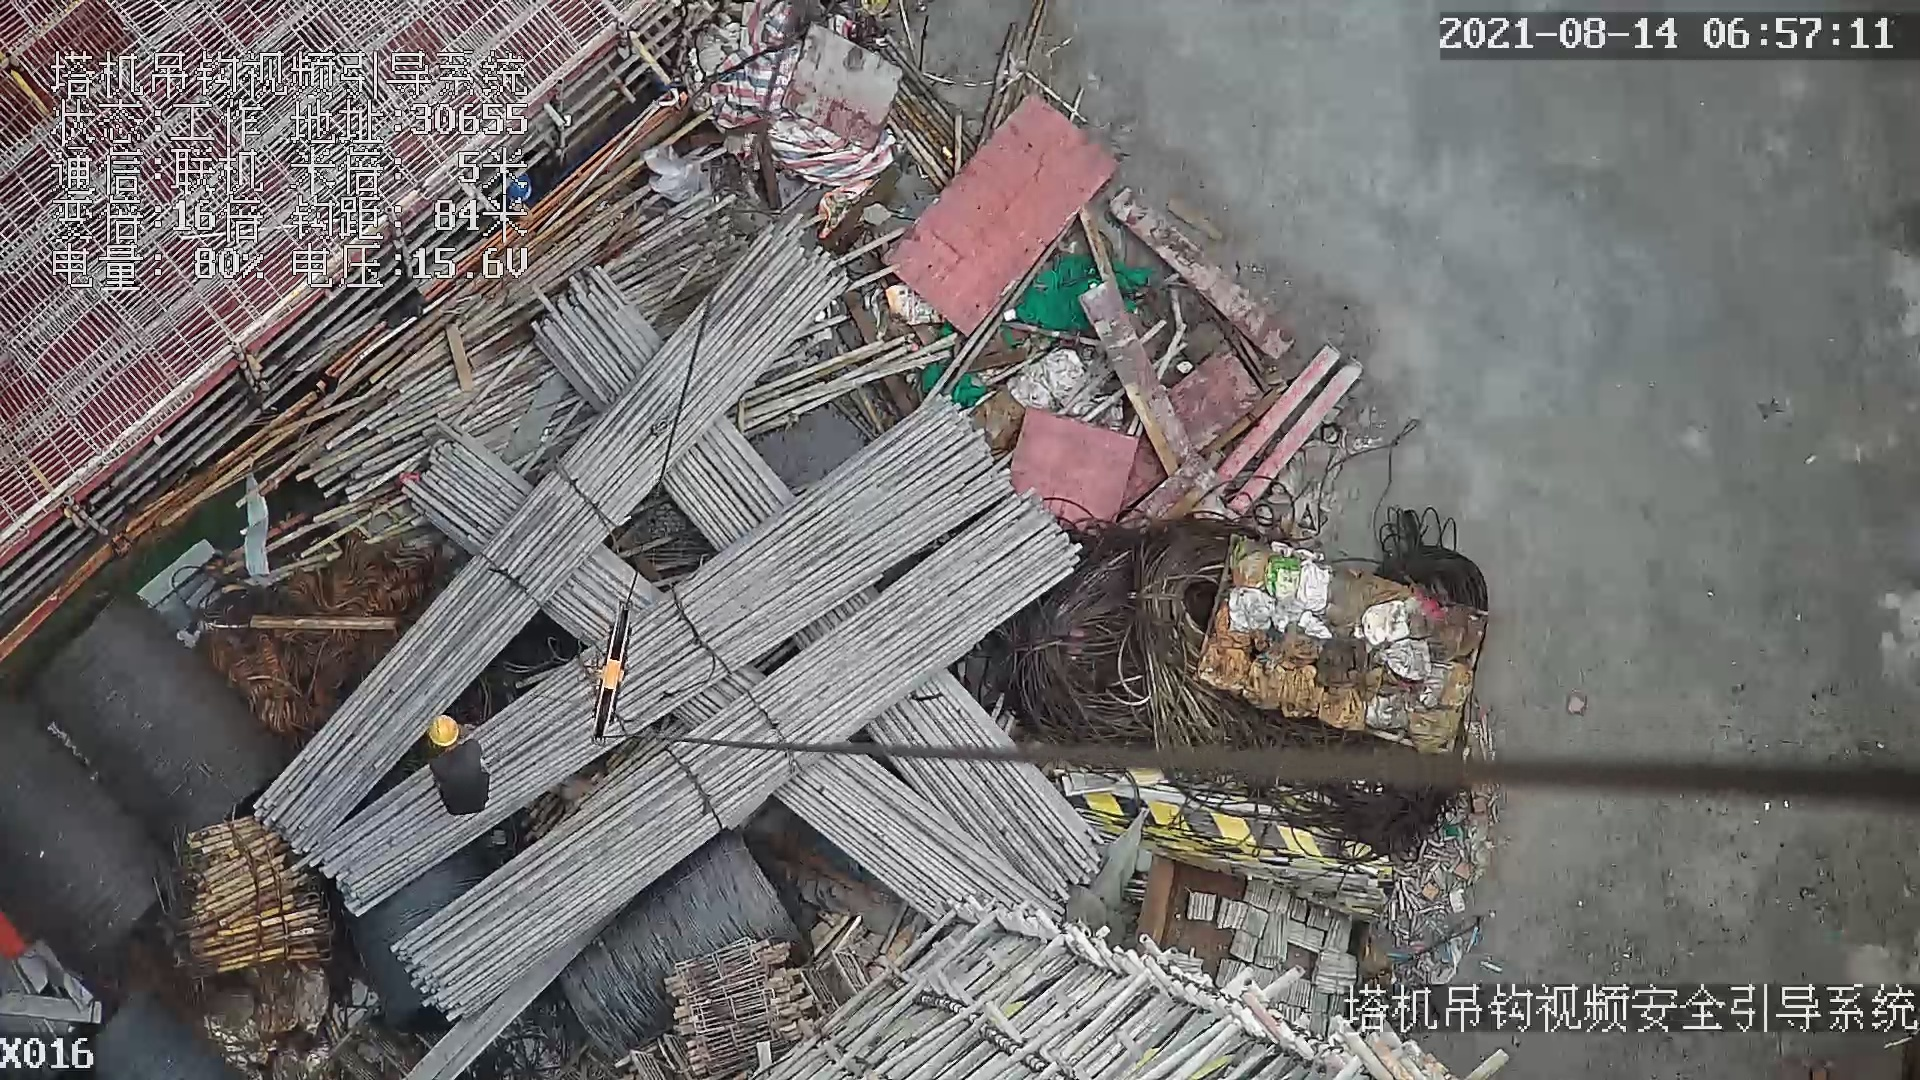helmet: (426, 714, 458, 746)
hook: (581, 592, 640, 751)
person: (420, 714, 495, 824)
rebar: (252, 214, 848, 851), (304, 395, 1016, 916), (397, 488, 1085, 1020), (866, 668, 1106, 897), (774, 749, 1067, 929)
wood: (177, 814, 333, 974)
